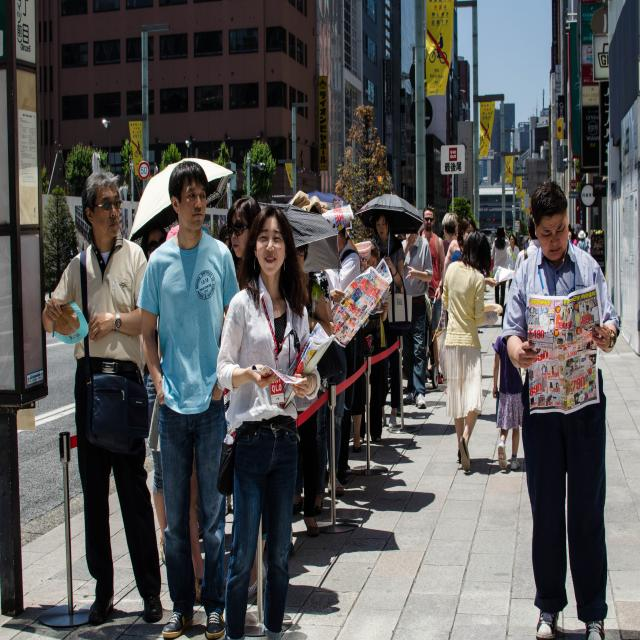body: (39, 166, 164, 623), (500, 180, 622, 640), (213, 199, 339, 640), (241, 398, 460, 640), (136, 158, 243, 640), (145, 217, 227, 605), (251, 204, 323, 541), (440, 228, 494, 474), (140, 221, 168, 565), (11, 592, 209, 640), (364, 210, 407, 427), (329, 225, 362, 485), (401, 232, 434, 410), (364, 239, 388, 444), (419, 204, 446, 386), (493, 336, 523, 470), (316, 194, 356, 294), (451, 216, 500, 289), (226, 195, 262, 281), (490, 225, 510, 316), (514, 213, 540, 277), (552, 621, 639, 640), (442, 212, 462, 290), (470, 454, 529, 479), (505, 235, 520, 293), (210, 210, 231, 244), (362, 300, 374, 325), (577, 230, 588, 253), (568, 226, 578, 244), (517, 232, 527, 248), (581, 301, 590, 314), (540, 362, 548, 374), (378, 261, 385, 274), (572, 358, 580, 369), (553, 336, 557, 348)
